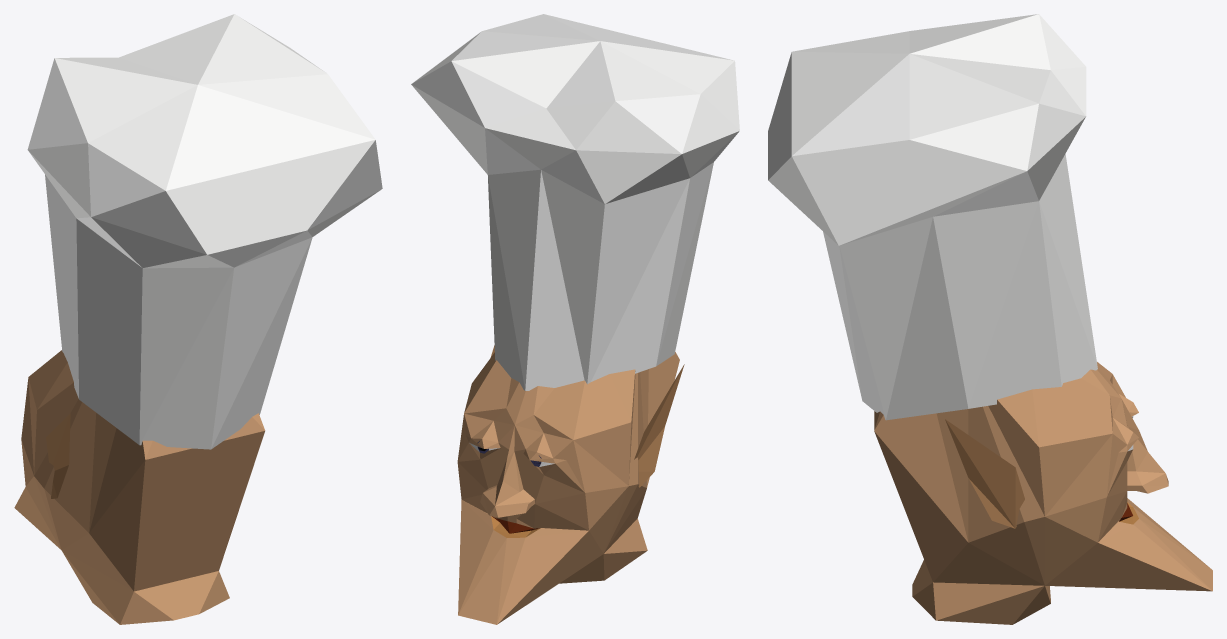
The model's file is npc_chat_aluft_gianne_0.obj.
3 renders of one model, left to right at view 1: azimuth 30°, elevation 25°; view 2: azimuth 150°, elevation 25°; view 3: azimuth 270°, elevation 25°, orthographic. The views are drawn at different scales.
Size of the model in its own units: 0.875 by 1.62 by 1.18.
